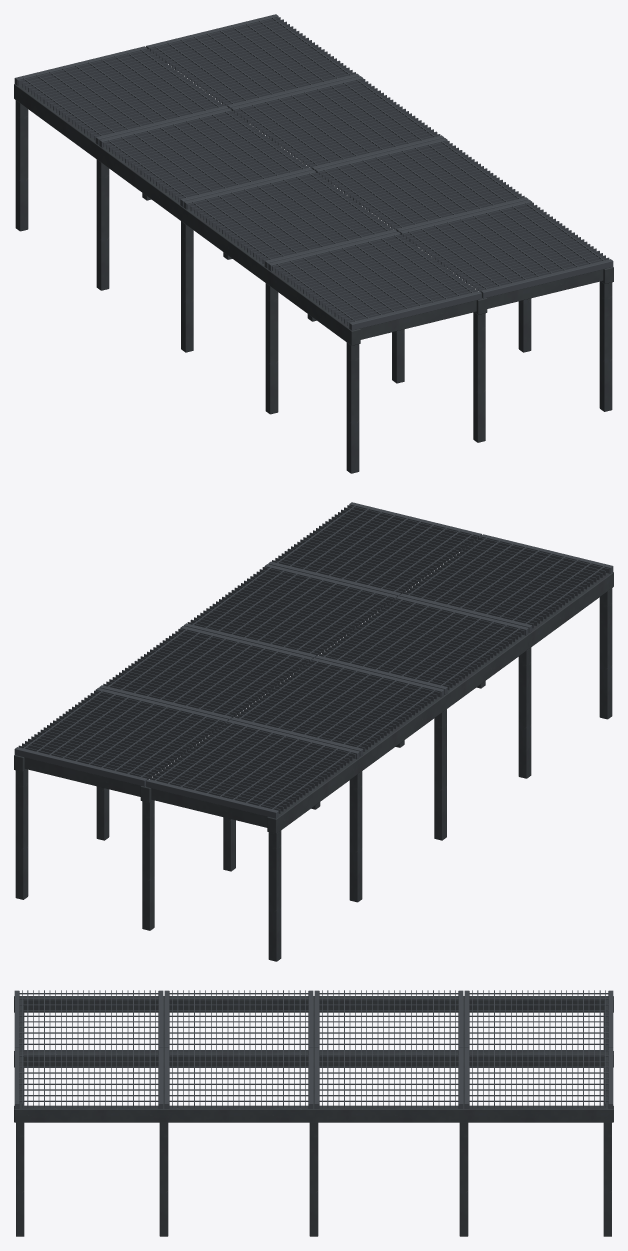
File: AftPlatform.glb
3 renders of one model, top to bottom at view 1: azimuth 30°, elevation 25°; view 2: azimuth 150°, elevation 25°; view 3: azimuth 270°, elevation 25°, orthographic. The views are drawn at different scales.
Visible parts, largest first — view 1: AftPlatform_Body; view 2: AftPlatform_Body; view 3: AftPlatform_Body.
Part boxes in pixels (bbox=[...]): AftPlatform_Body: bbox=[14, 14, 613, 473]; AftPlatform_Body: bbox=[14, 502, 613, 961]; AftPlatform_Body: bbox=[14, 990, 613, 1236].
Size of the model in its own units: 2.2 by 1.2 by 4.9.
2 materials, 1 textured.
